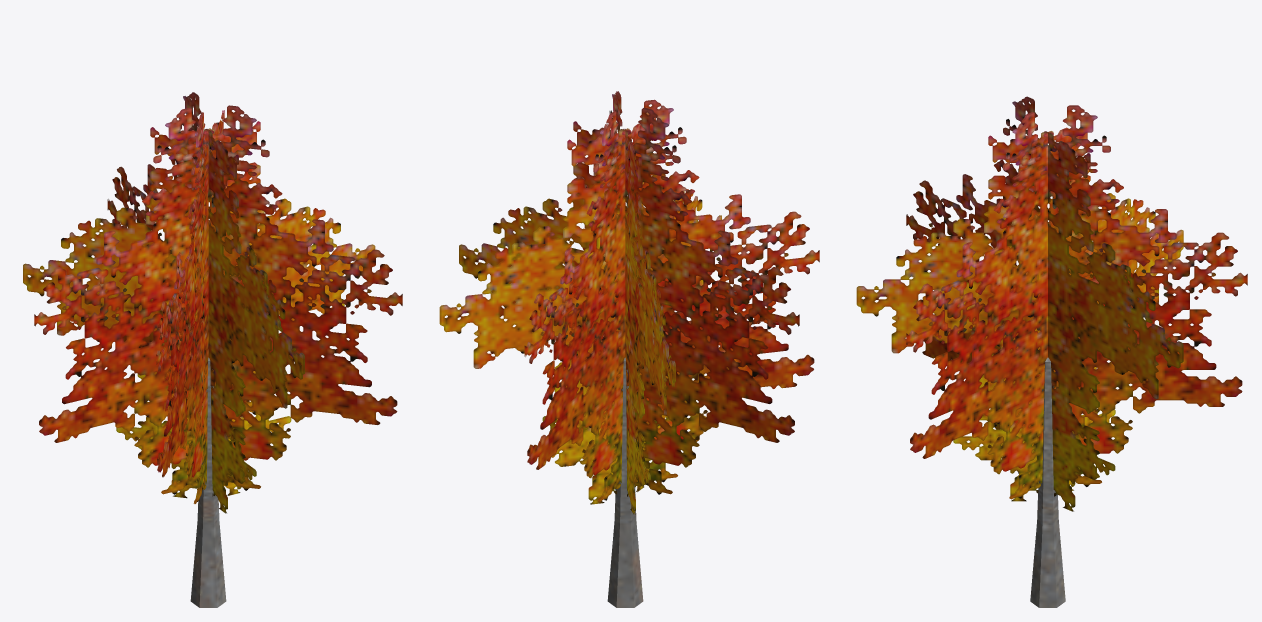
File: tree30.glb
3 views of the same model, side by side, from view 1: azimuth 30°, elevation 25°; view 2: azimuth 150°, elevation 25°; view 3: azimuth 270°, elevation 25° (orthographic).
Parts seen in each view (by area): view 1: tree30; view 2: tree30; view 3: tree30.
Boxes of the visible parts, box(x1,y1,x2,y2) form: tree30: box(23, 92, 402, 607); tree30: box(439, 91, 819, 607); tree30: box(856, 96, 1247, 607).
Size of the model in its own units: 9 by 12.5 by 9.
1 material, 1 textured.
